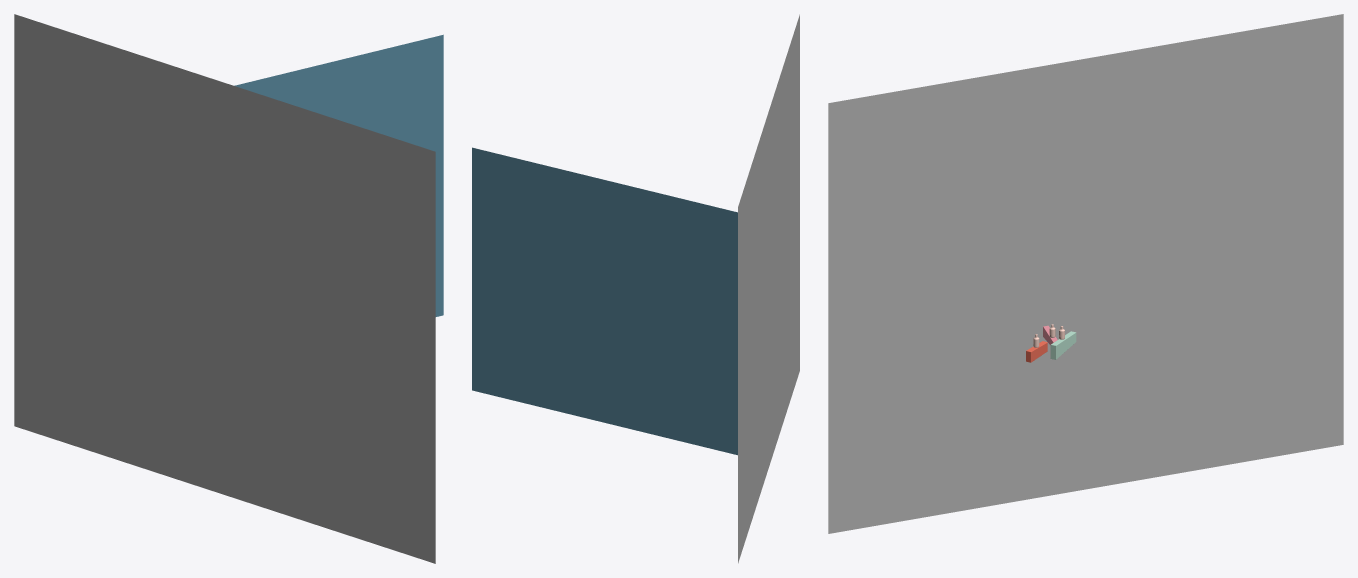
File: bardot_perfume.glb
3 renders of one model, left to right at view 1: azimuth 30°, elevation 25°; view 2: azimuth 150°, elevation 25°; view 3: azimuth 270°, elevation 25°, orthographic. The views are drawn at different scales.
Parts seen in each view (by area): view 1: Plane.003, Plane.002; view 2: Plane.002, Plane.003; view 3: Plane.003.
Boxes of the visible parts, left/top/right/bottom form: Plane.003: left=14, top=14, right=435, bottom=563; Plane.002: left=234, top=34, right=443, bottom=316; Plane.002: left=472, top=147, right=737, bottom=455; Plane.003: left=738, top=14, right=799, bottom=563; Plane.003: left=828, top=14, right=1343, bottom=533.
Bounding box in the file's own units: 4.86 × 5.2 × 5.63.
Materials: 9 (2 with a texture image).
